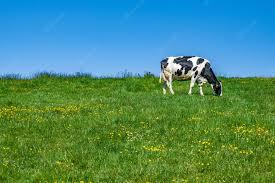cow: (160, 57, 222, 95)
